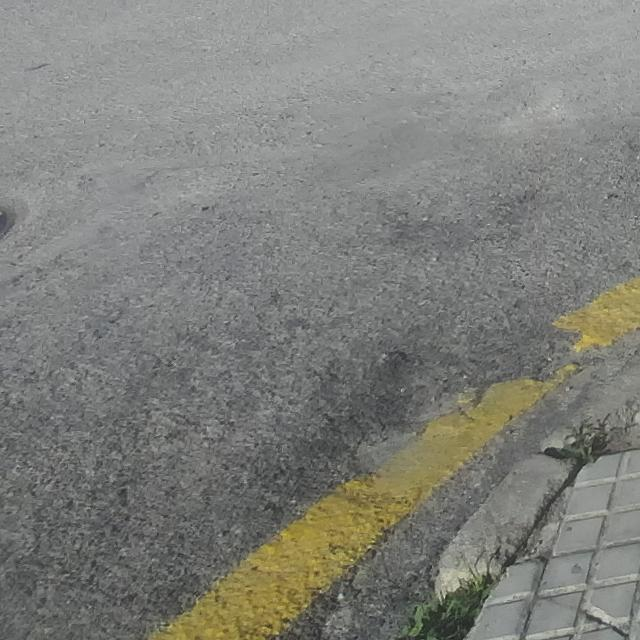calcada_quebrada: (526, 589, 640, 640), (576, 405, 640, 468)
